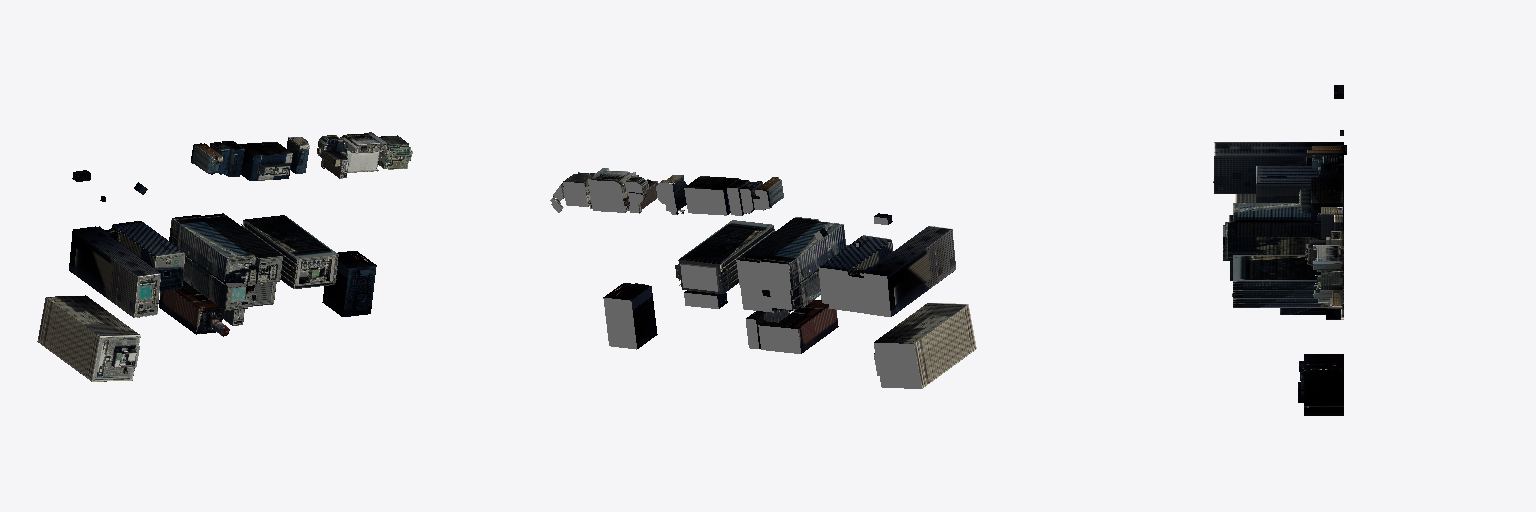
3 views of the same model, side by side, from view 1: azimuth 30°, elevation 25°; view 2: azimuth 150°, elevation 25°; view 3: azimuth 270°, elevation 25° (orthographic).
Size of the model in its own units: 596 by 298 by 185.
Materials: 27 (27 with a texture image).